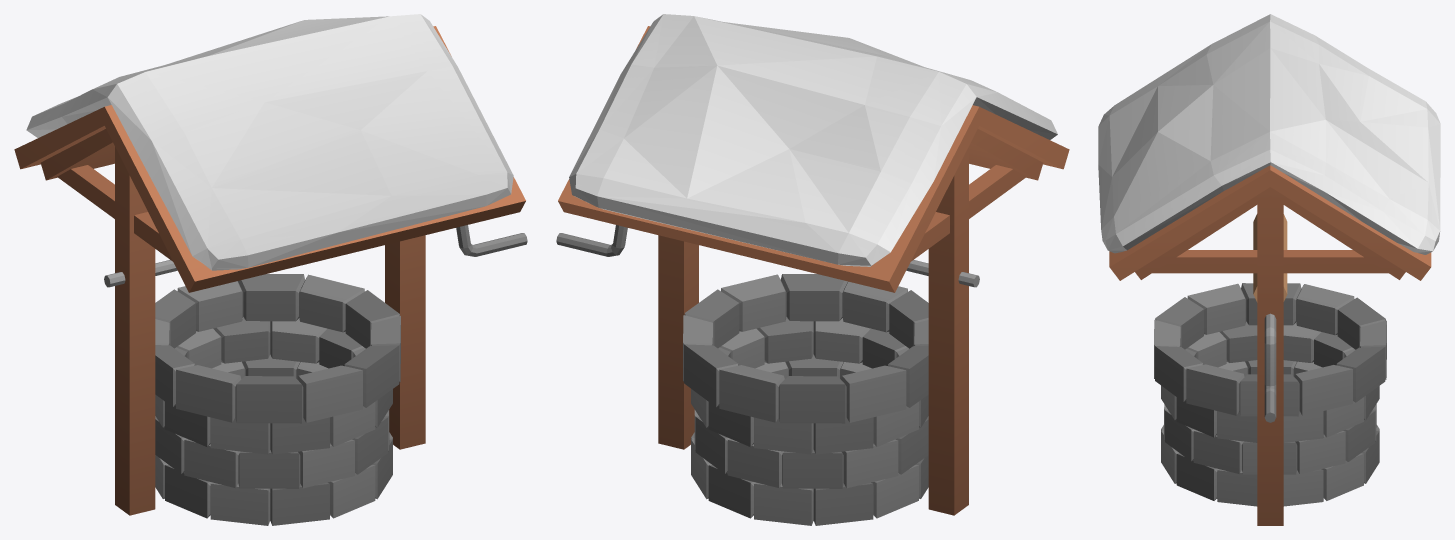
File: winter well.fbx
3 renders of one model, left to right at view 1: azimuth 30°, elevation 25°; view 2: azimuth 150°, elevation 25°; view 3: azimuth 270°, elevation 25°, orthographic. The views are drawn at different scales.
Visible parts, largest first — view 1: winter well; view 2: winter well; view 3: winter well.
Boxes of the visible parts, x1=… form: winter well: x1=14, y1=14, x2=527, y2=525; winter well: x1=556, y1=14, x2=1069, y2=525; winter well: x1=1098, y1=14, x2=1440, y2=525.
Bounding box in the file's own units: 287 × 283 × 228.
